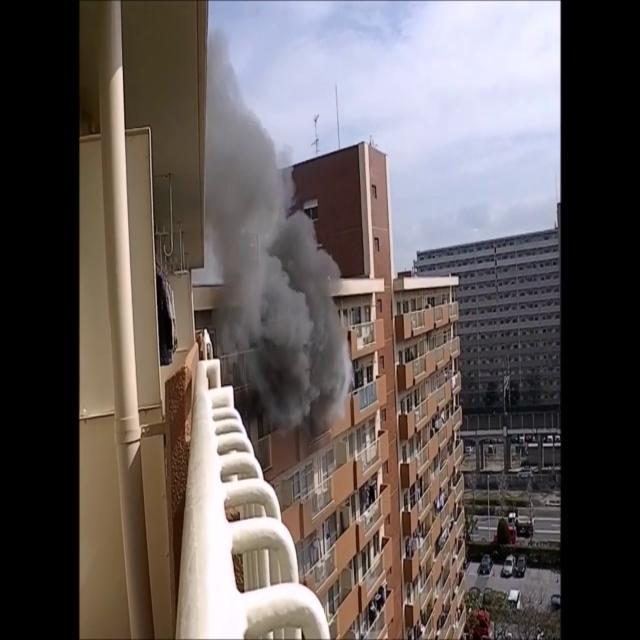Smoke: (200, 57, 352, 437)
